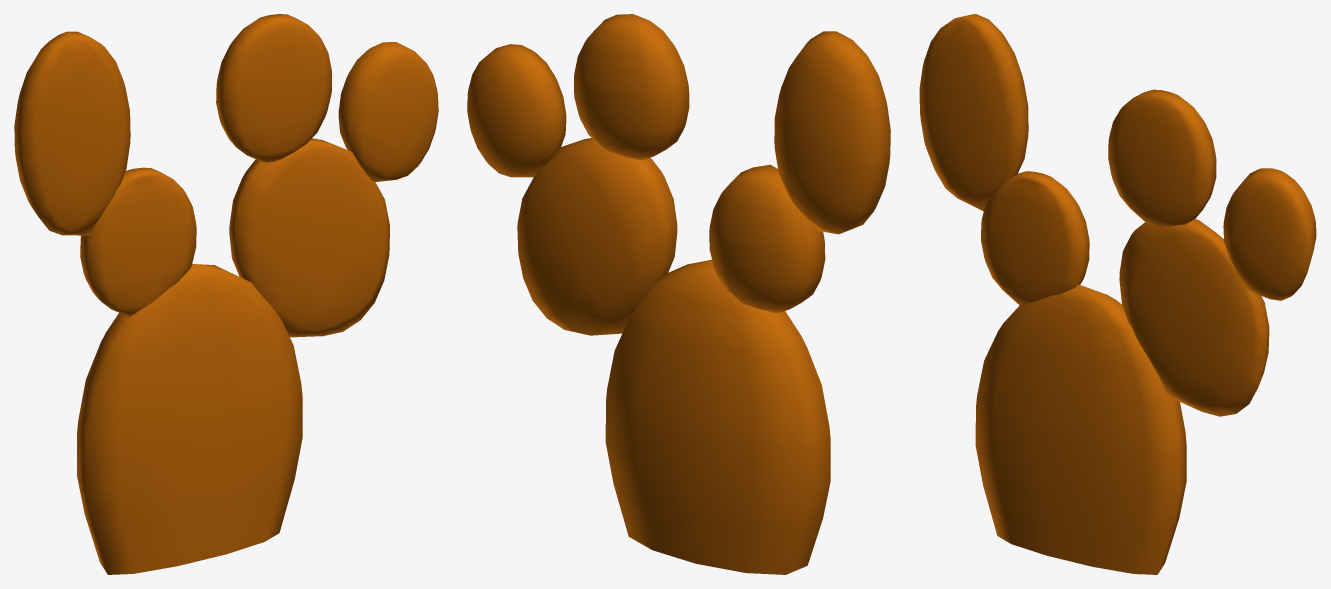
Rendered from cactus2_low.fbx.
3 renders of one model, left to right at view 1: azimuth 30°, elevation 25°; view 2: azimuth 150°, elevation 25°; view 3: azimuth 330°, elevation 25°, orthographic. The views are drawn at different scales.
Visible parts, largest first — view 1: Sphere001, Sphere002, Sphere006, Sphere003, Sphere005, Sphere004; view 2: Sphere001, Sphere002, Sphere006, Sphere003, Sphere005, Sphere004; view 3: Sphere001, Sphere002, Sphere006, Sphere003, Sphere005, Sphere004.
Part boxes in pixels (x1,y1,x2,y2): Sphere001: (77, 264, 302, 574); Sphere002: (229, 138, 389, 337); Sphere006: (14, 31, 130, 235); Sphere003: (216, 14, 332, 162); Sphere005: (80, 167, 196, 317); Sphere004: (338, 42, 438, 181); Sphere001: (605, 259, 830, 574); Sphere002: (517, 138, 677, 335); Sphere006: (774, 31, 890, 234); Sphere003: (574, 14, 689, 159); Sphere005: (709, 164, 825, 313); Sphere004: (467, 44, 566, 177); Sphere001: (975, 284, 1186, 574); Sphere002: (1119, 219, 1269, 416); Sphere006: (919, 14, 1028, 211); Sphere003: (1108, 89, 1216, 226); Sphere005: (981, 171, 1089, 305); Sphere004: (1223, 168, 1316, 300).
Bounding box in the file's own units: 197 × 251 × 34.53.
